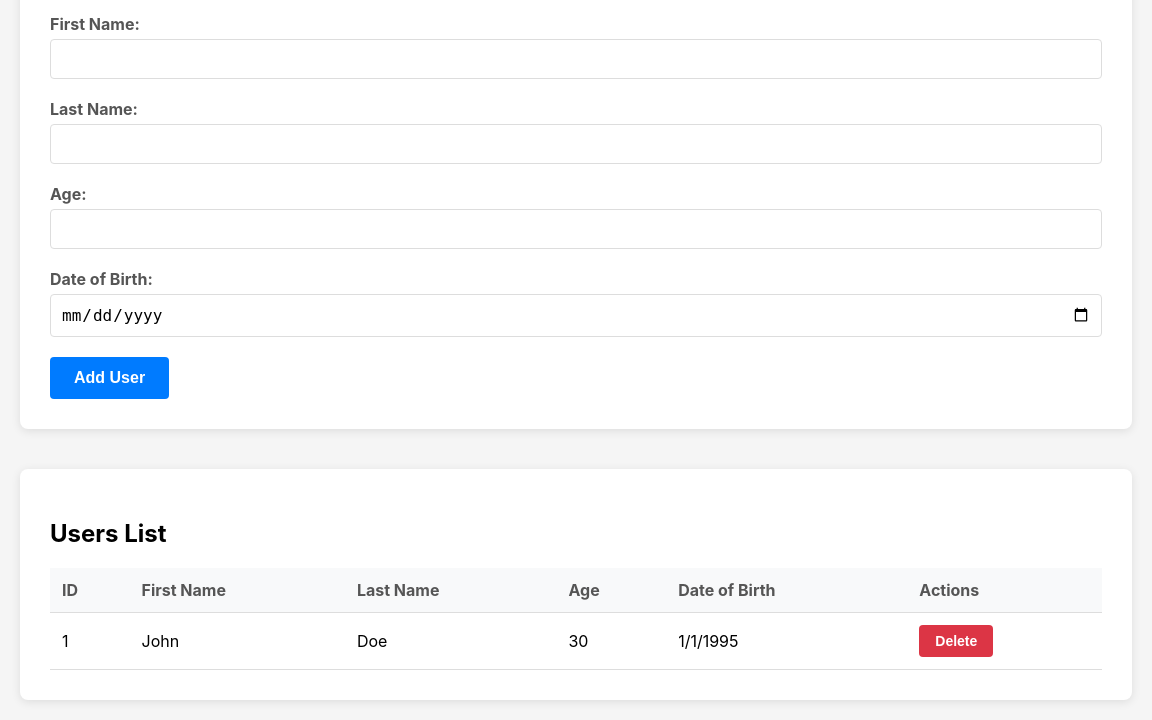
Test: App delete flow with confirm modal › opens modal and deletes after confirm
(page scrolled)
expect the heading "Users List" is shown: met, box [50,519,166,548]
Click the button "Delete" at [956, 641], box [919,625,993,657]
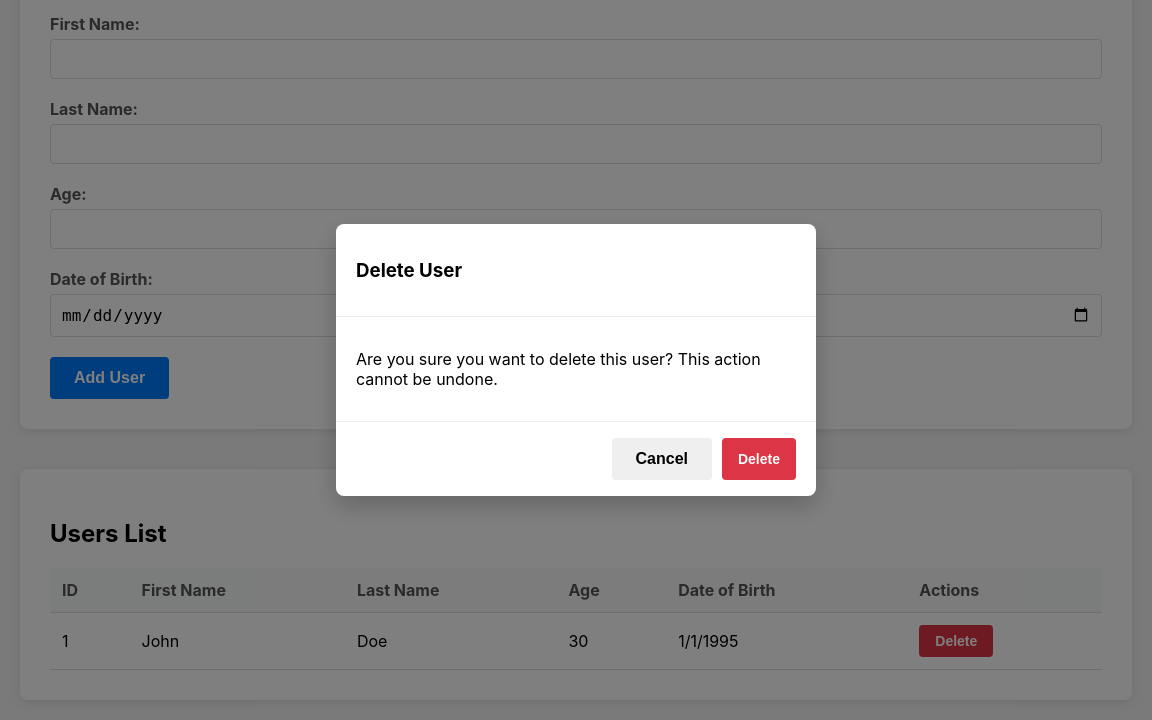
expect the dialog is shown: met
Click the button "Delete" at [759, 459], box [722,438,796,480]
(page scrolled)
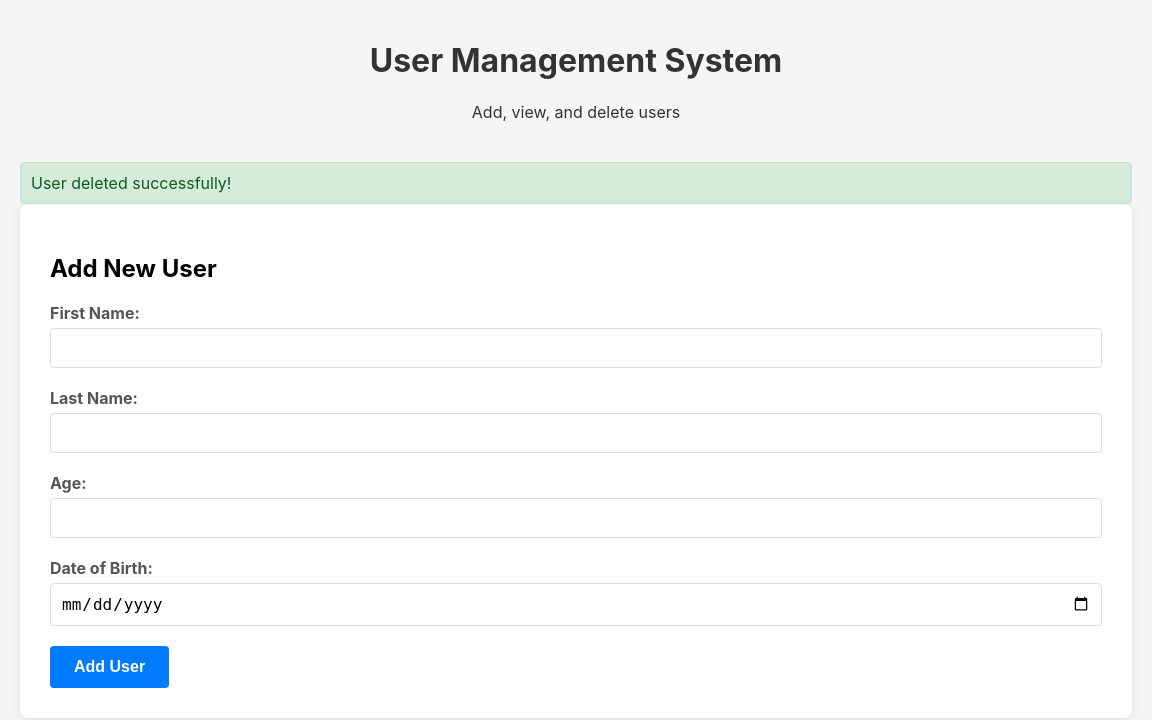
expect the text "User deleted successfully!" is shown: met, box [20,162,1132,204]
